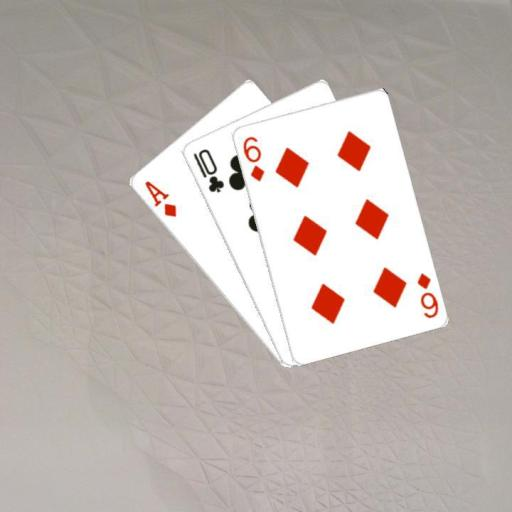10C: (189, 145, 226, 194)
6D: (239, 133, 266, 183), (413, 270, 440, 320)
AD: (141, 177, 178, 219)
